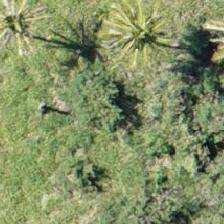coconut_tree: (88, 0, 178, 78), (0, 0, 60, 69)
